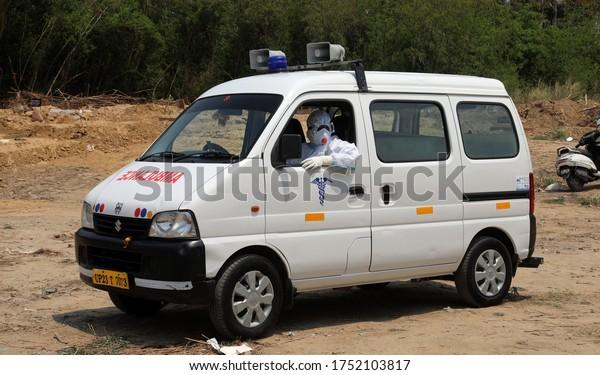ER: (74, 72, 538, 328)
